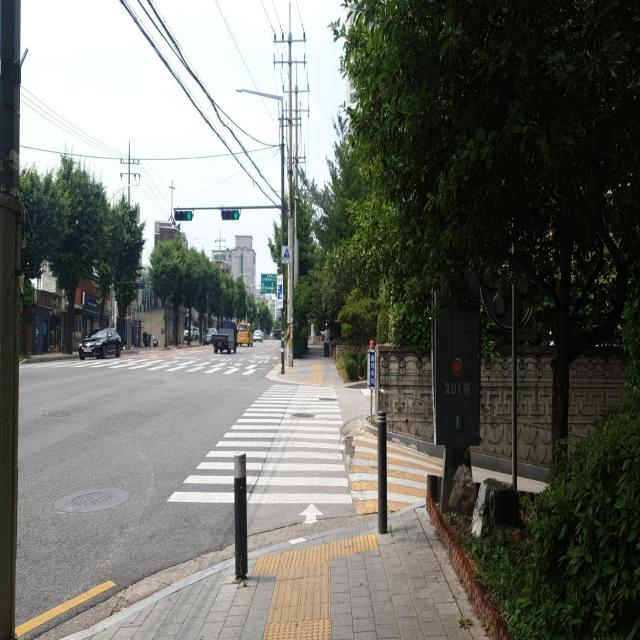횡단보도: (164, 382, 354, 526), (12, 350, 286, 376)
